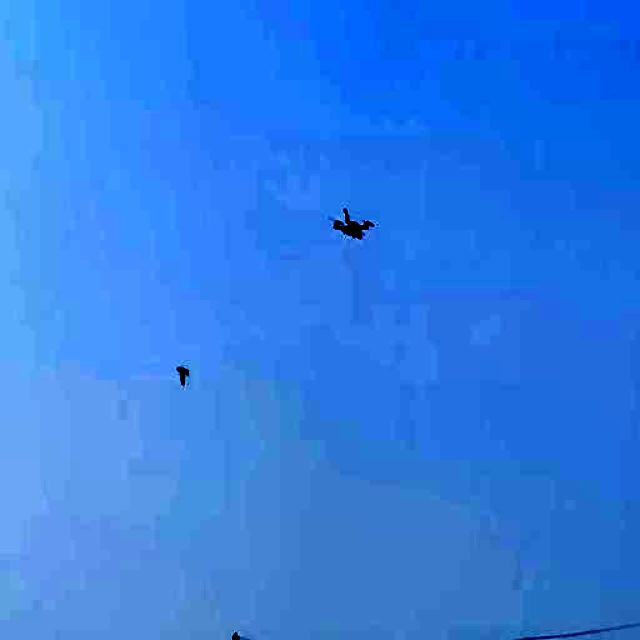bird: (325, 204, 375, 244)
